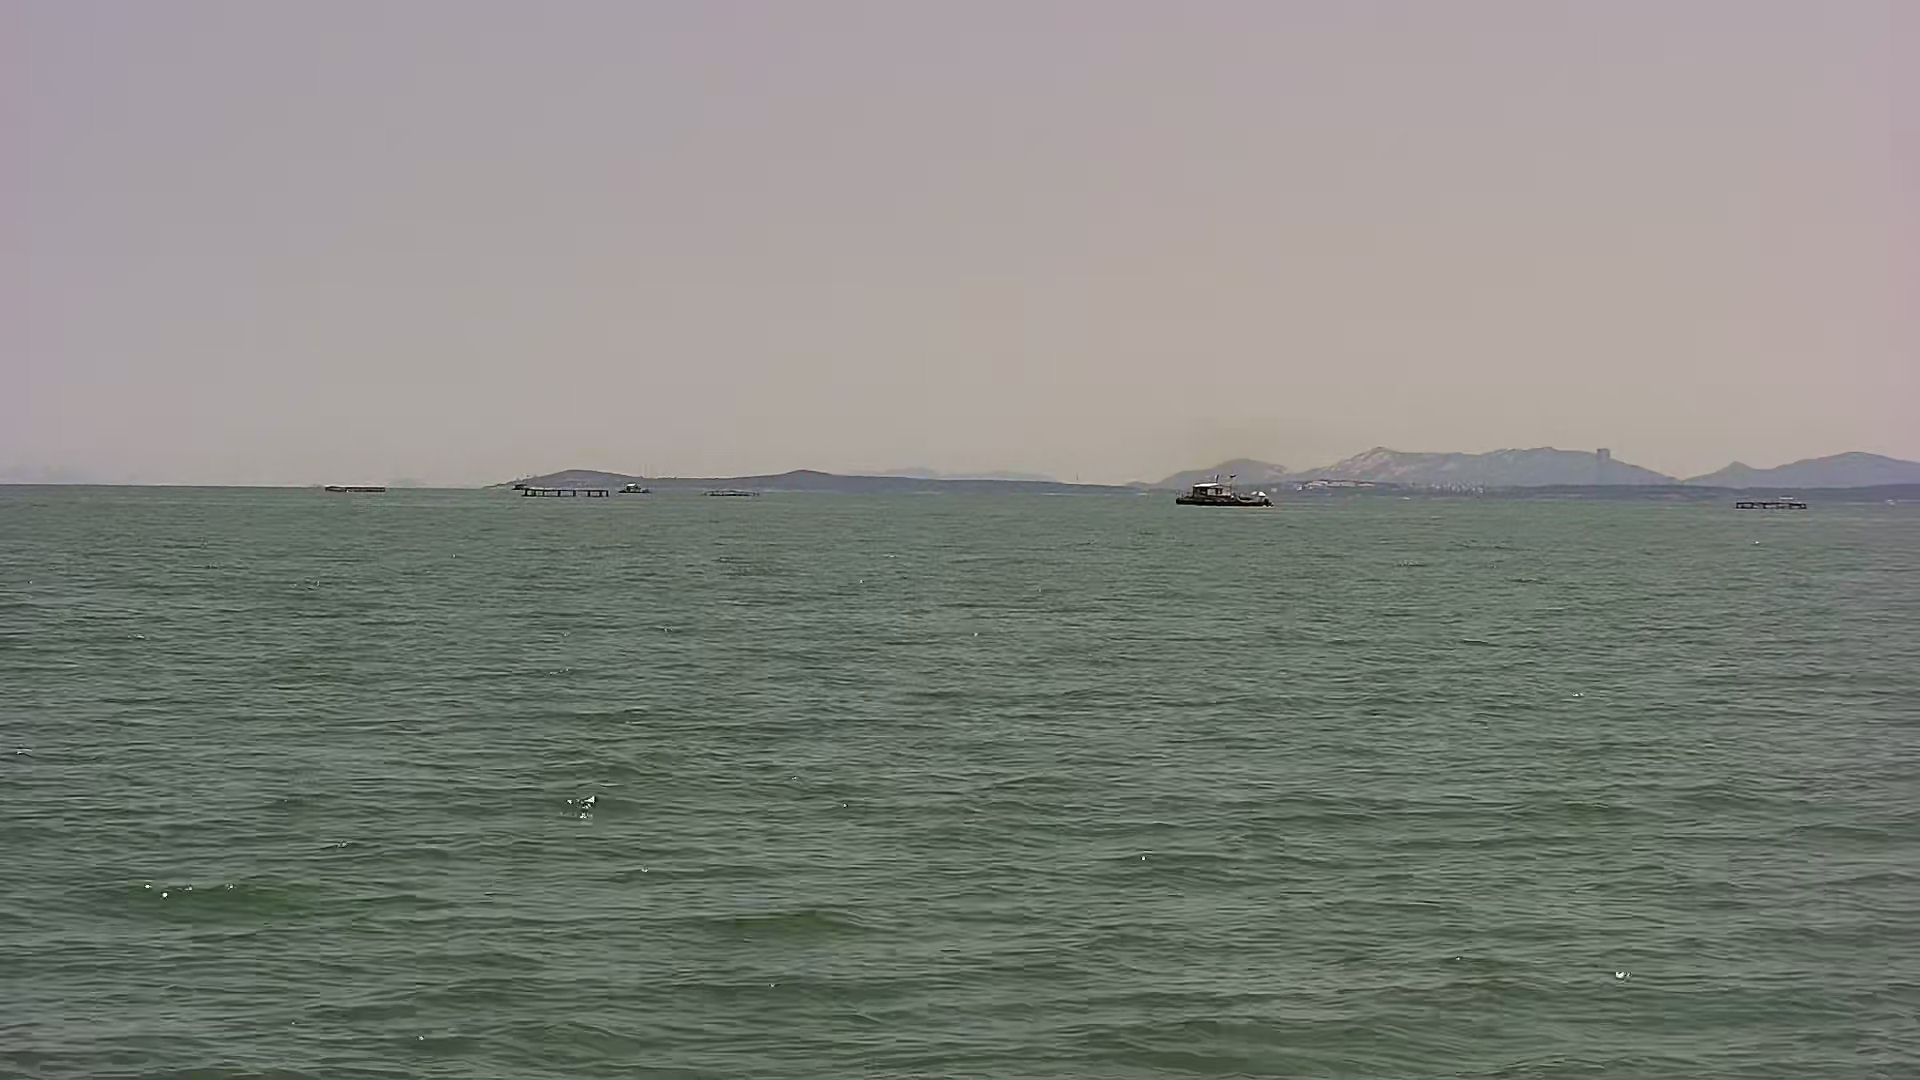platform: (510, 476, 618, 506), (1734, 485, 1815, 518), (699, 475, 773, 505), (315, 480, 401, 501), (620, 475, 651, 498)
ship: (1175, 471, 1278, 512)
